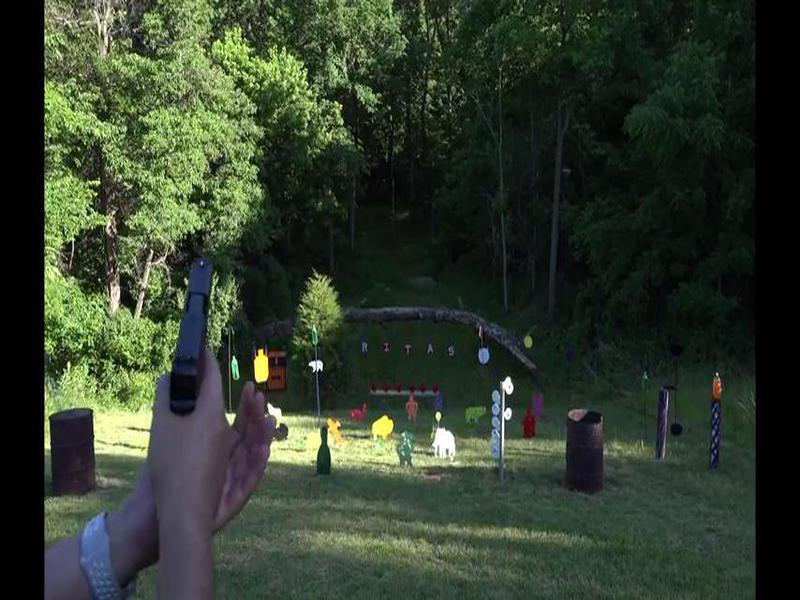Pistola: (151, 245, 241, 428)
